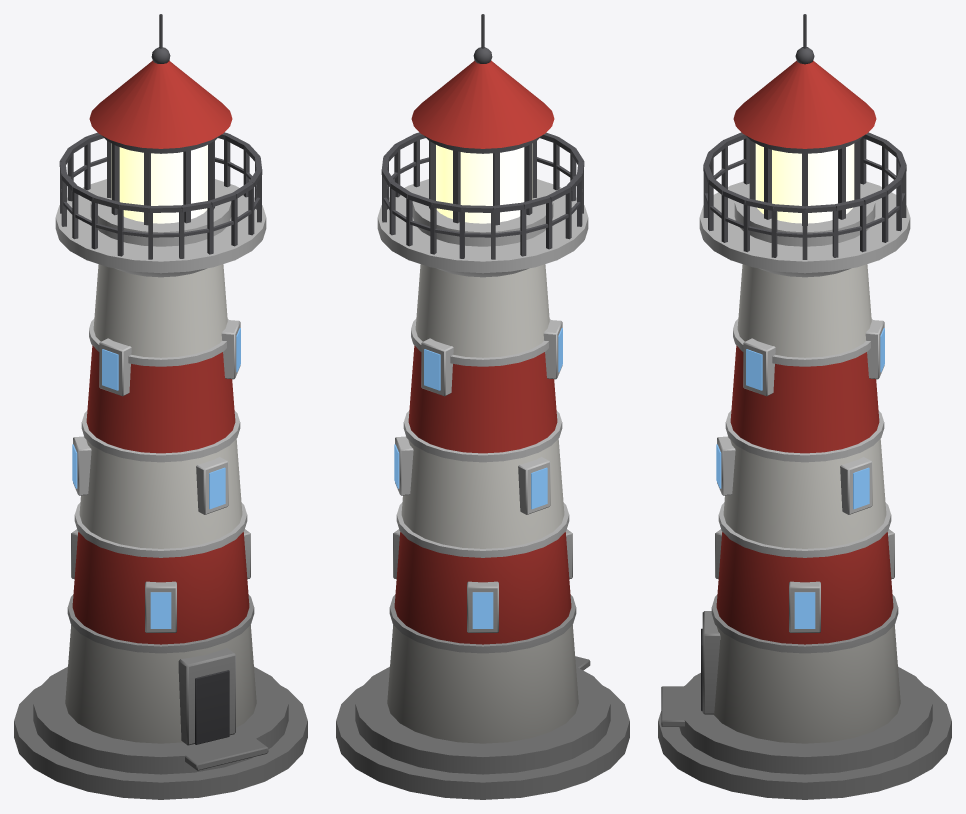
Rendered from Lighthouse_Body.glb.
3 renders of one model, left to right at view 1: azimuth 30°, elevation 25°; view 2: azimuth 150°, elevation 25°; view 3: azimuth 270°, elevation 25°, orthographic.
Visible parts, largest first — view 1: Lighthouse_Body, Lighthouse_Lantern; view 2: Lighthouse_Body, Lighthouse_Lantern; view 3: Lighthouse_Body, Lighthouse_Lantern.
Boxes of the visible parts, x1,y1,x2,y2 form: Lighthouse_Body: [14, 14, 307, 799]; Lighthouse_Lantern: [111, 143, 207, 223]; Lighthouse_Body: [336, 14, 629, 799]; Lighthouse_Lantern: [436, 143, 532, 223]; Lighthouse_Body: [658, 14, 951, 799]; Lighthouse_Lantern: [755, 143, 854, 223].
Size of the model in its own units: 4.6 by 12.5 by 4.6.
